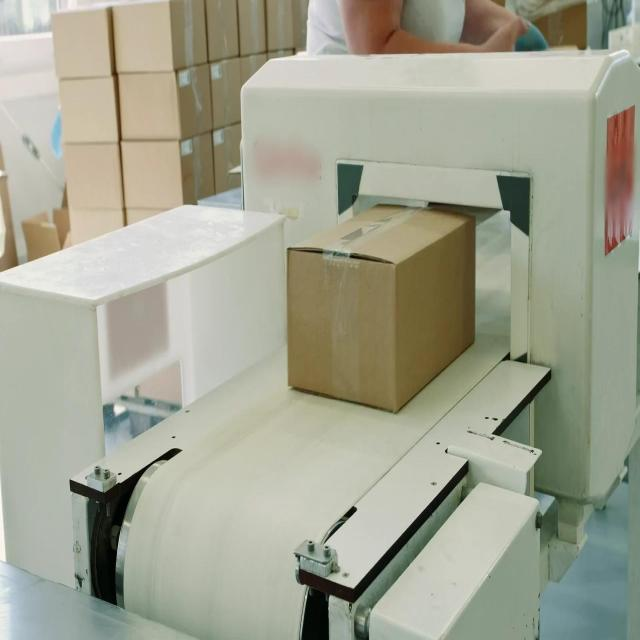box: (283, 193, 475, 417)
